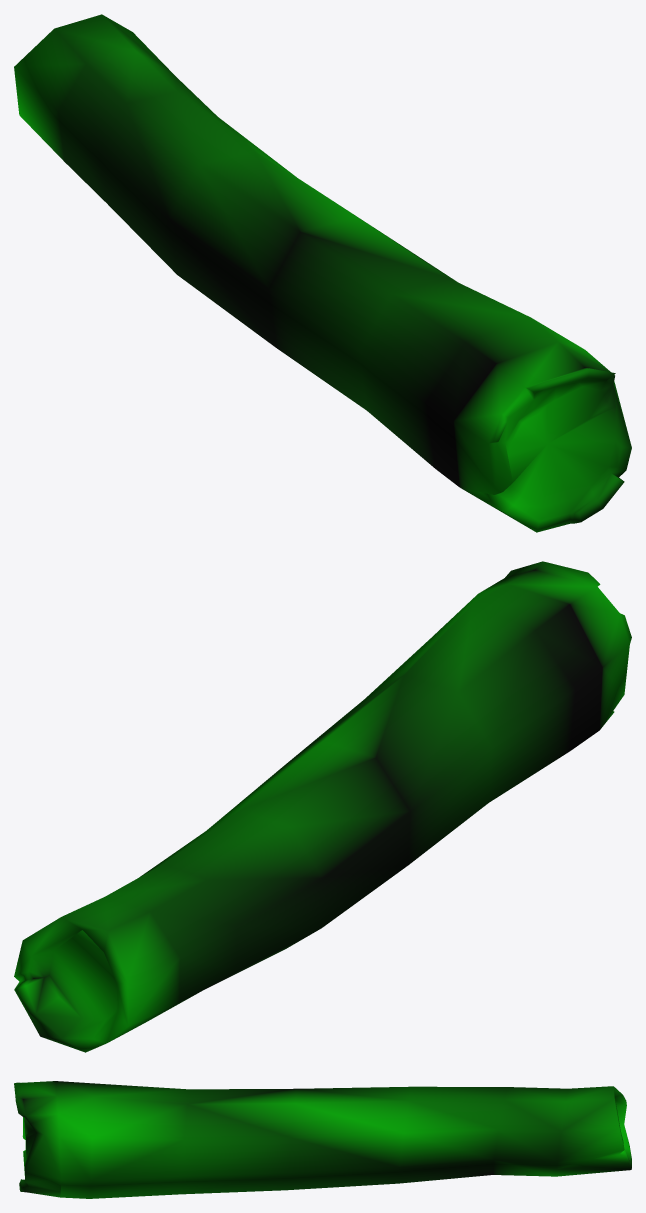
The model's file is SM_PalmFallen01.fbx.
3 views of the same model, one above another, from view 1: azimuth 30°, elevation 25°; view 2: azimuth 150°, elevation 25°; view 3: azimuth 270°, elevation 25° (orthographic). The views are drawn at different scales.
Parts seen in each view (by area): view 1: SM_PalmFallen01; view 2: SM_PalmFallen01; view 3: SM_PalmFallen01.
Boxes of the visible parts, bbox=[...] form: SM_PalmFallen01: bbox=[14, 14, 631, 532]; SM_PalmFallen01: bbox=[14, 561, 631, 1052]; SM_PalmFallen01: bbox=[14, 1081, 631, 1198].
Bounding box in the file's own units: 94.44 × 95.47 × 523.
